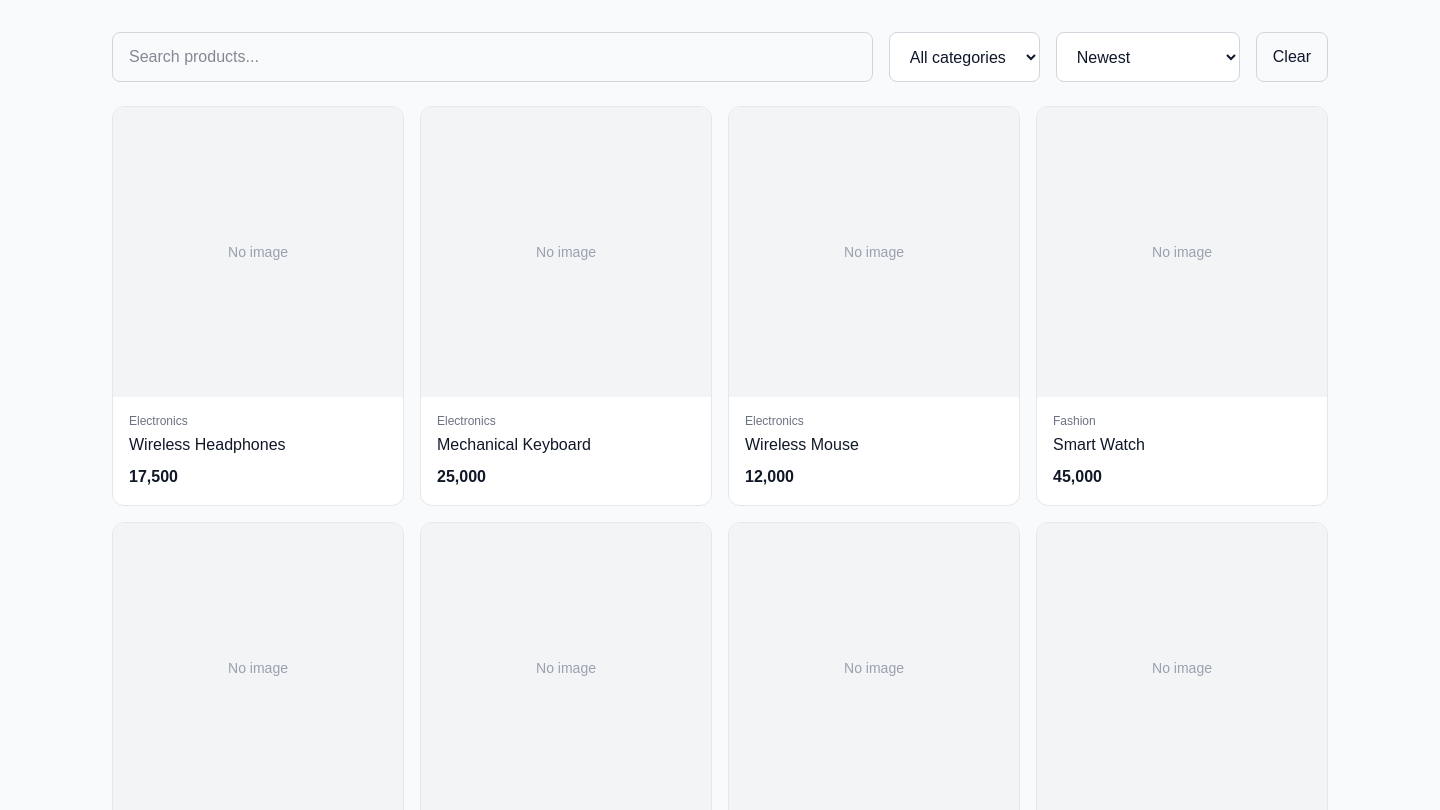
Scenario: ProductList › searches products case-insensitively
Expected: the heading "Wireless Headphones" is shown, top-left (129, 436), bottom-right (286, 453)
In the search field labelled "Search products": {"x": 492, "y": 57} top-left (112, 32), bottom-right (873, 82), type "HEADPHONES"
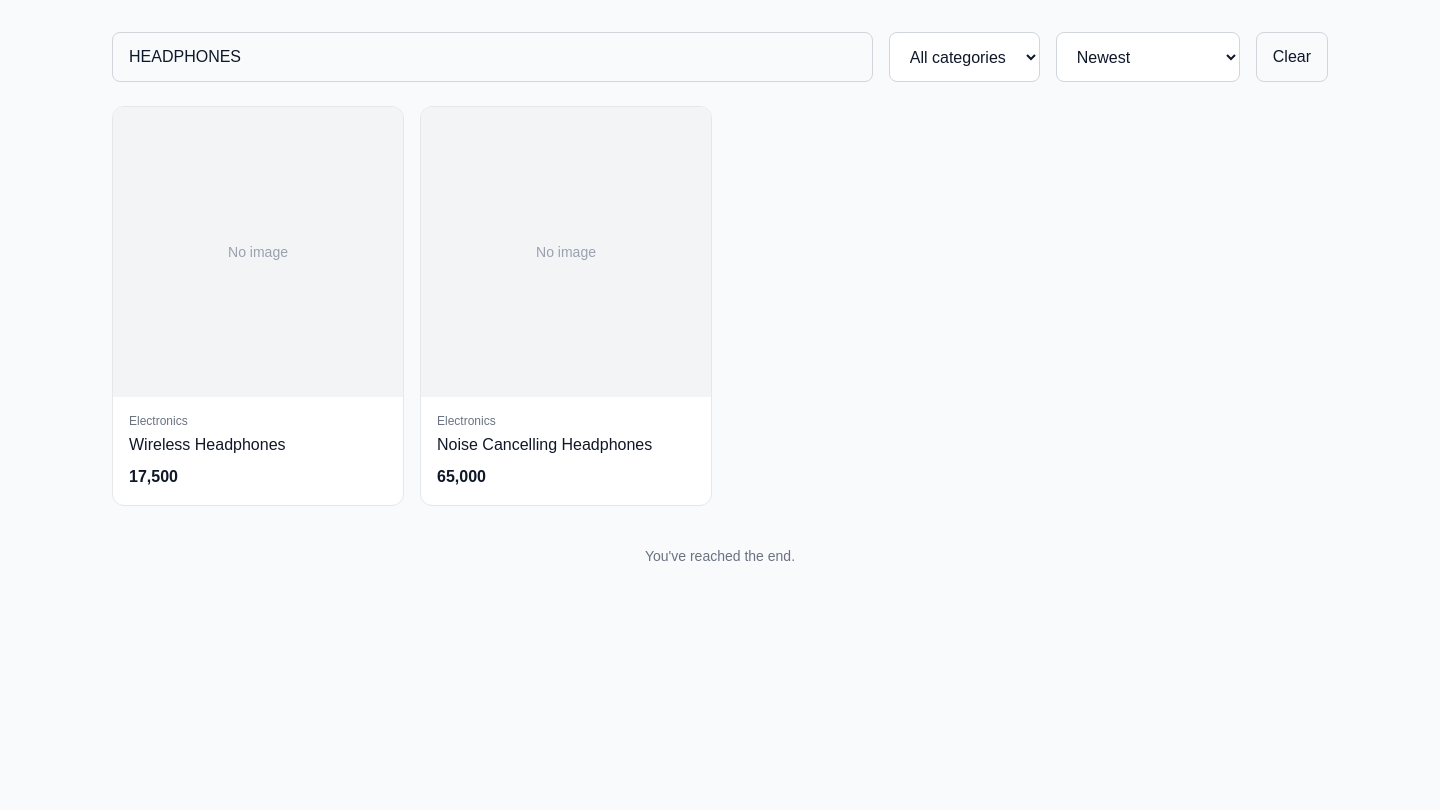
Expected: the heading "Wireless Headphones" is shown, top-left (129, 436), bottom-right (286, 453)
Result: the link "Mechanical Keyboard" is gone
